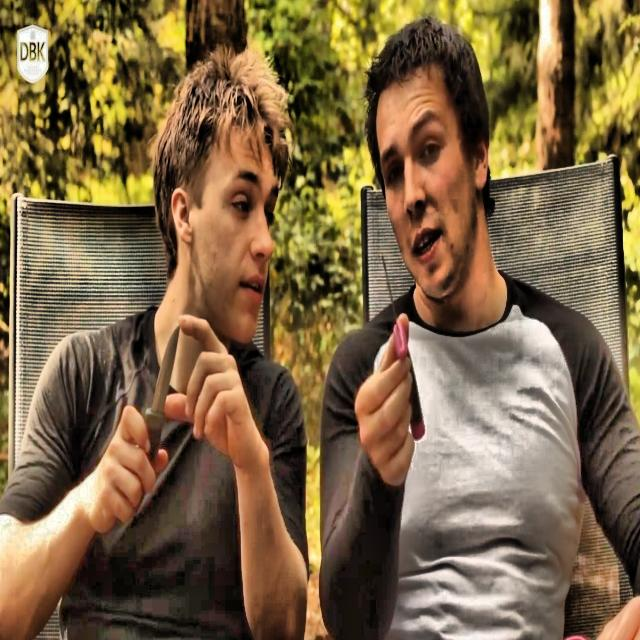knife: (382, 261, 428, 439), (138, 327, 180, 510)
